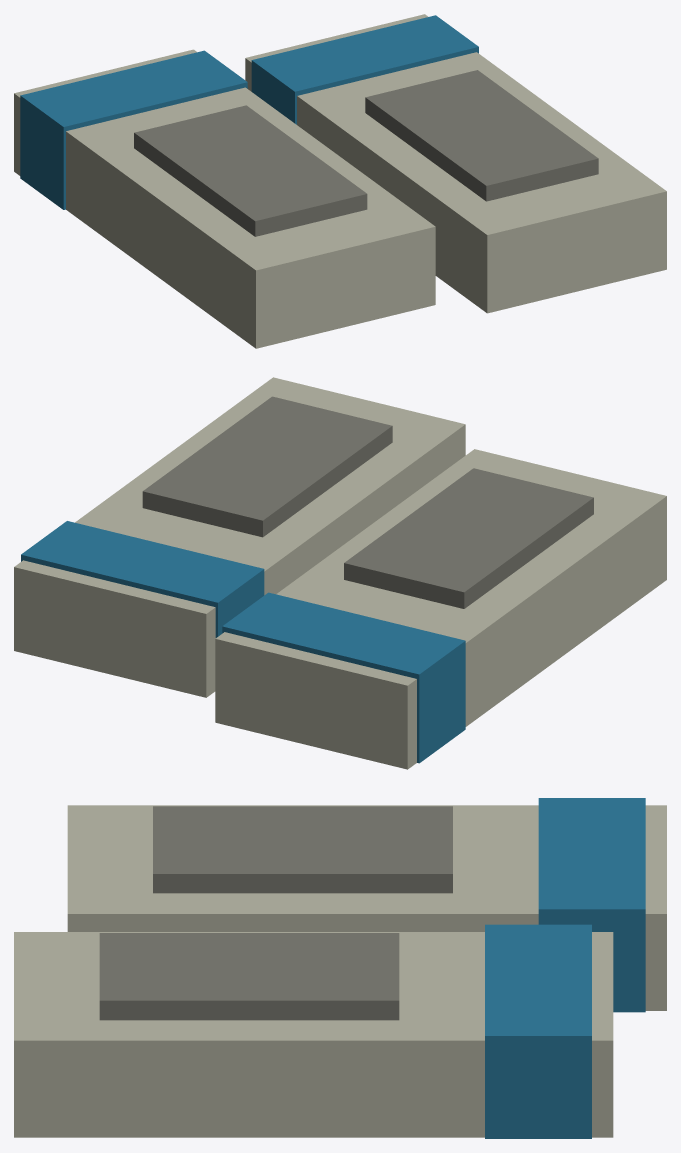
Rendered from ce_ammo_chmag_ion_b.obj.
The picture shows the model from 3 angles, top to bottom: view 1: azimuth 30°, elevation 25°; view 2: azimuth 150°, elevation 25°; view 3: azimuth 270°, elevation 25°; orthographic projection. The views are drawn at different scales.
Parts seen in each view (by area): view 1: ce_ammo_chmag_ion_b_0, ce_ammo_chmag_ion_b_3, ce_ammo_chmag_ion_b_2, ce_ammo_chmag_ion_b_5, ce_ammo_chmag_ion_b_1, ce_ammo_chmag_ion_b_4; view 2: ce_ammo_chmag_ion_b_0, ce_ammo_chmag_ion_b_3, ce_ammo_chmag_ion_b_5, ce_ammo_chmag_ion_b_2, ce_ammo_chmag_ion_b_1, ce_ammo_chmag_ion_b_4; view 3: ce_ammo_chmag_ion_b_3, ce_ammo_chmag_ion_b_0, ce_ammo_chmag_ion_b_5, ce_ammo_chmag_ion_b_2, ce_ammo_chmag_ion_b_4, ce_ammo_chmag_ion_b_1.
Boxes of the visible parts, x1=… form: ce_ammo_chmag_ion_b_0: x1=14, y1=49, x2=435, y2=348; ce_ammo_chmag_ion_b_3: x1=245, y1=14, x2=666, y2=313; ce_ammo_chmag_ion_b_2: x1=134, y1=105, x2=367, y2=236; ce_ammo_chmag_ion_b_5: x1=365, y1=70, x2=598, y2=201; ce_ammo_chmag_ion_b_1: x1=20, y1=50, x2=247, y2=209; ce_ammo_chmag_ion_b_4: x1=251, y1=15, x2=478, y2=124; ce_ammo_chmag_ion_b_0: x1=215, y1=449, x2=666, y2=769; ce_ammo_chmag_ion_b_3: x1=14, y1=377, x2=465, y2=697; ce_ammo_chmag_ion_b_5: x1=142, y1=396, x2=392, y2=537; ce_ammo_chmag_ion_b_2: x1=344, y1=468, x2=593, y2=608; ce_ammo_chmag_ion_b_1: x1=222, y1=592, x2=465, y2=763; ce_ammo_chmag_ion_b_4: x1=21, y1=521, x2=264, y2=637; ce_ammo_chmag_ion_b_3: x1=14, y1=932, x2=613, y2=1137; ce_ammo_chmag_ion_b_0: x1=67, y1=805, x2=666, y2=1010; ce_ammo_chmag_ion_b_5: x1=99, y1=933, x2=399, y2=1020; ce_ammo_chmag_ion_b_2: x1=153, y1=806, x2=452, y2=893; ce_ammo_chmag_ion_b_4: x1=485, y1=924, x2=591, y2=1138; ce_ammo_chmag_ion_b_1: x1=538, y1=798, x2=645, y2=1012.
Size of the model in its own units: 0.526 by 0.12 by 0.61.
